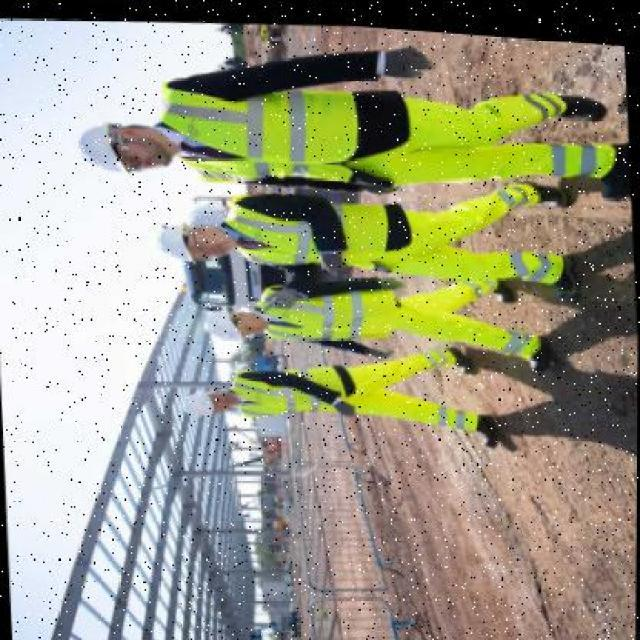helmet: (77, 111, 136, 182), (149, 219, 195, 268), (205, 303, 247, 345), (180, 385, 222, 423)
vest: (157, 39, 389, 200), (234, 178, 413, 274), (255, 260, 415, 348), (231, 345, 362, 423)
